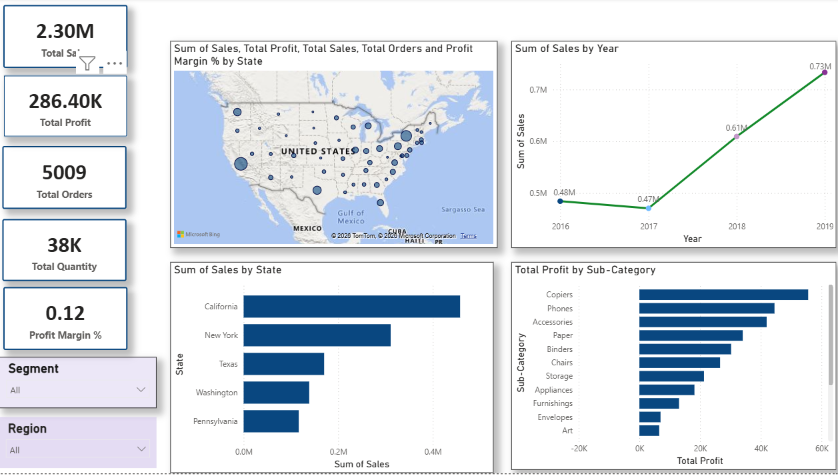

Layout of this report page (visuals, bound fields, positions):
{"tool":"powerbi","page":{"name":"Page 2","canvas":[1280,720],"ordinal":1},"visuals":[{"type":"map","fields":{"Category":["Orders.State"],"Size":["Sum(Orders.Sales)"]},"box":[258.9,65.1,495.1,313.4],"z":0},{"type":"lineChart","fields":{"Category":["Orders.Order Date.Variation.Date Hierarchy.Year","Orders.Order Date.Variation.Date Hierarchy.Month"],"Y":["Sum(Orders.Sales)"]},"box":[775.3,65.1,493.6,313.4],"z":1000},{"type":"clusteredBarChart","fields":{"Category":["Orders.State"],"Y":["Sum(Orders.Sales)"]},"box":[258.9,399.8,489.1,319.5],"z":2000},{"type":"clusteredBarChart","fields":{"Category":["Orders.Sub-Category"],"Y":["Orders.Total Profit"]},"box":[775.3,399.8,493.6,315],"z":3000},{"type":"card","fields":{"Values":["Orders.Total Sales"]},"box":[6.1,10.6,187.8,95.4],"z":4000},{"type":"card","fields":{"Values":["Orders.Total Orders"]},"box":[4.5,224.1,187.8,95.4],"z":5000},{"type":"card","fields":{"Values":["Orders.Total Profit"]},"box":[6.1,116.6,187.8,93.9],"z":6000},{"type":"card","fields":{"Values":["Orders.Total Quantity"]},"box":[4.5,334.6,187.8,93.9],"z":7000},{"type":"card","fields":{"Values":["Orders.Profit Margin %"]},"box":[6.1,437.6,187.8,95.4],"z":8000},{"type":"slicer","fields":{"Values":["Orders.Segment"]},"box":[0,543.6,237.7,77.2],"z":9000},{"type":"slicer","fields":{"Values":["Orders.Region"]},"box":[0,634.5,237.7,77.2],"z":10000}]}

Visuals, with their boxes in screenshot pixels (x1, y1, x2, y2), scaled from the page's 1280x720 canvas onto the 838x475 screenshot:
map - Orders.State x Sum(Orders.Sales): bbox(169, 43, 494, 250)
lineChart - Orders.Order Date.Variation.Date Hierarchy.Year x Orders.Order Date.Variation.Date Hierarchy.Month: bbox(508, 43, 831, 250)
clusteredBarChart - Orders.State x Sum(Orders.Sales): bbox(169, 264, 490, 474)
clusteredBarChart - Orders.Sub-Category x Orders.Total Profit: bbox(508, 264, 831, 472)
card - Orders.Total Sales: bbox(4, 7, 127, 70)
card - Orders.Total Orders: bbox(3, 148, 126, 211)
card - Orders.Total Profit: bbox(4, 77, 127, 139)
card - Orders.Total Quantity: bbox(3, 221, 126, 283)
card - Orders.Profit Margin %: bbox(4, 289, 127, 352)
slicer - Orders.Segment: bbox(0, 359, 156, 410)
slicer - Orders.Region: bbox(0, 419, 156, 470)
